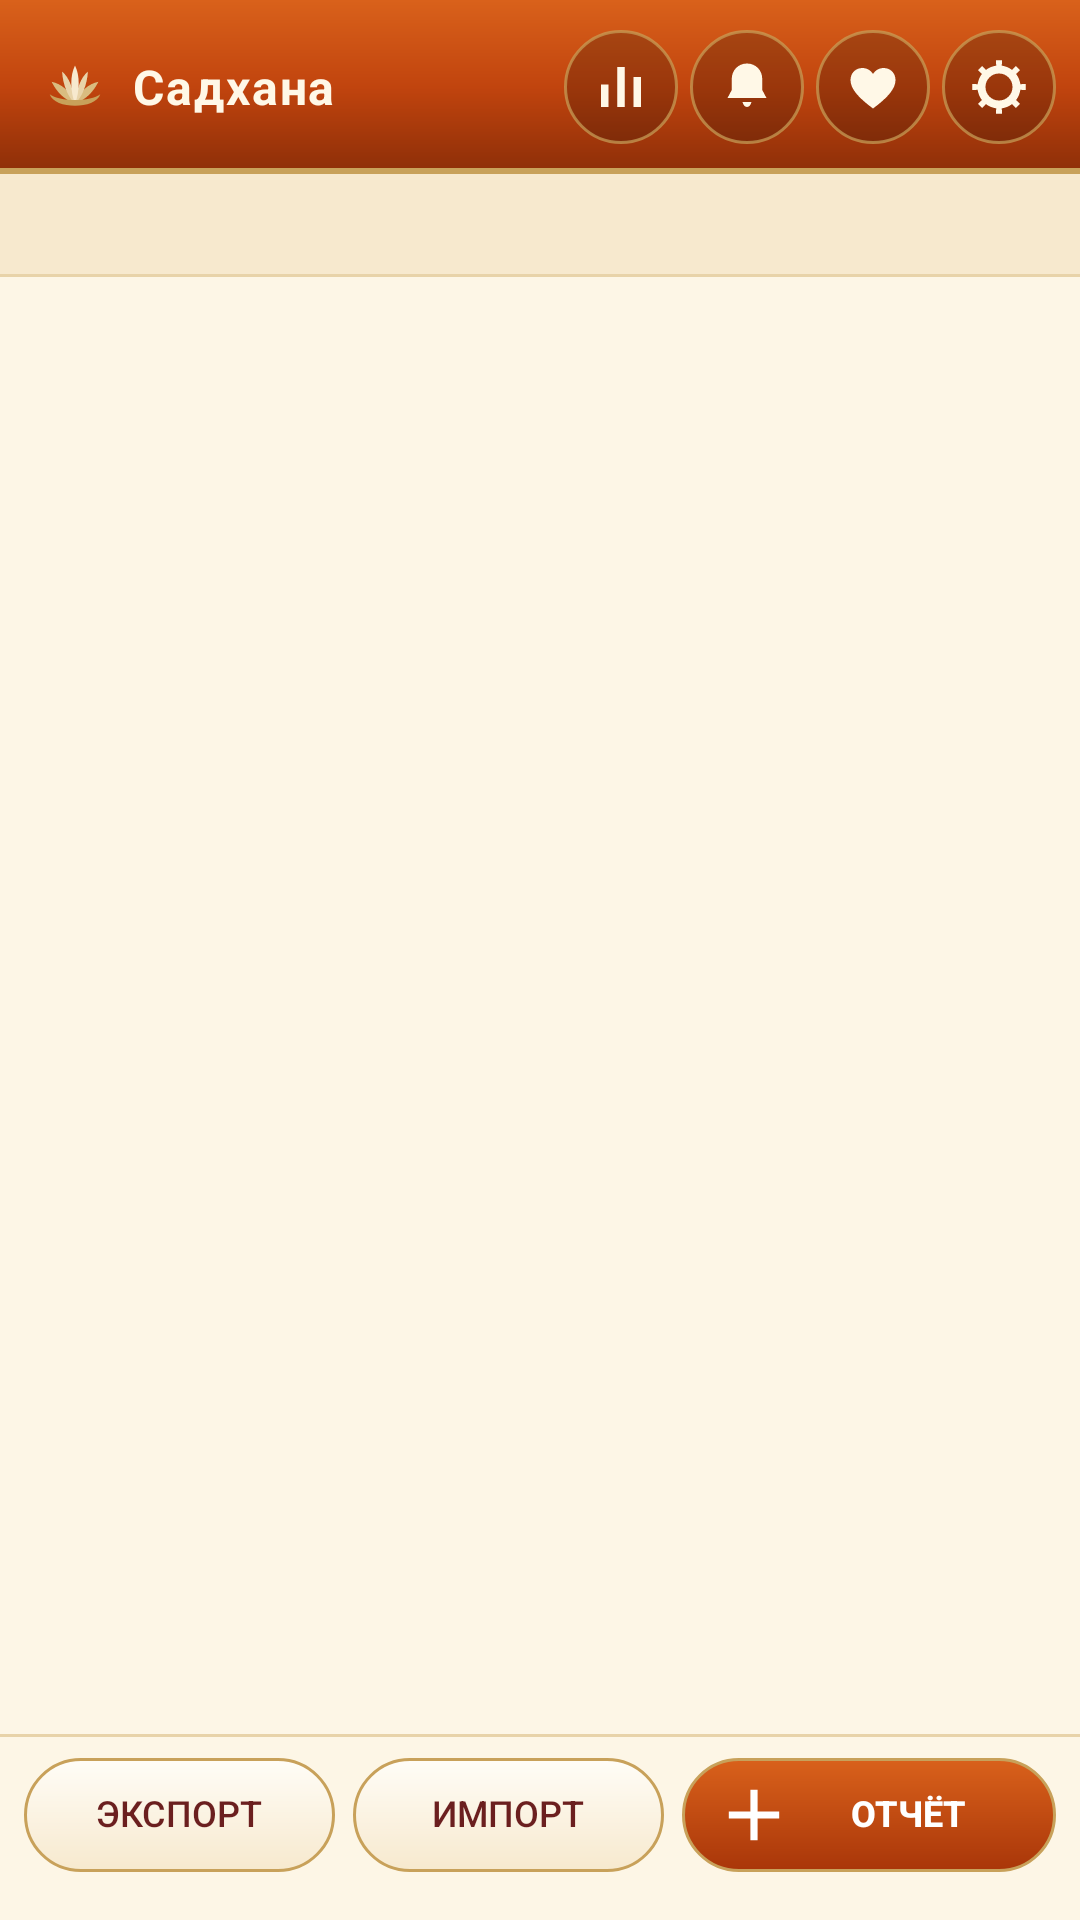

Point at icon controls on the screen. Image size 1080*1920, points as point (x, y).
Графики: point (621, 87)
Лотос: point (75, 87)
Напоминание: point (747, 87)
Поддержать проект: point (873, 87)
